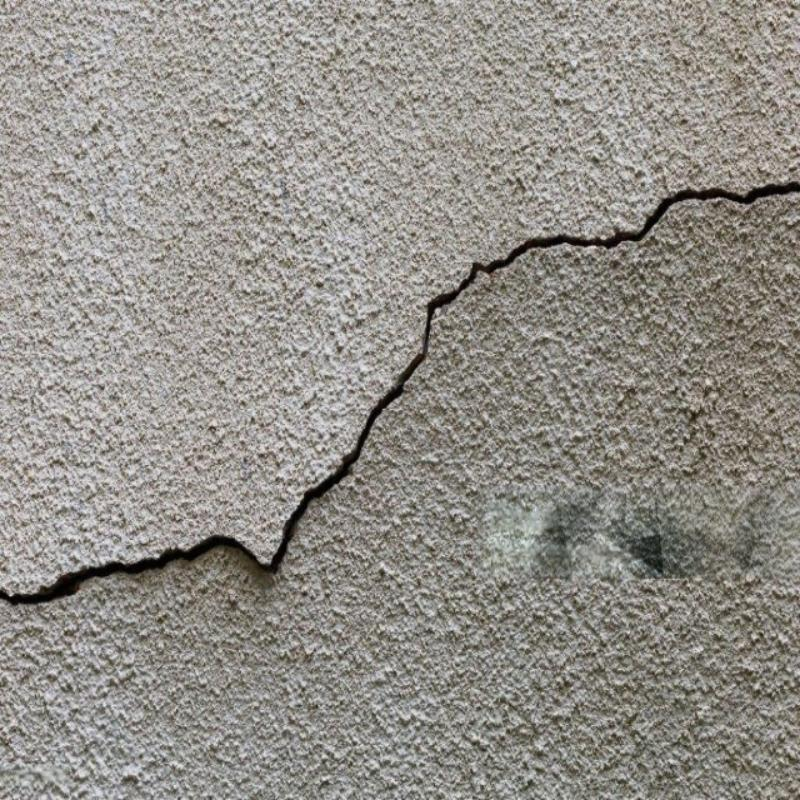pothole: (0, 168, 800, 614)
